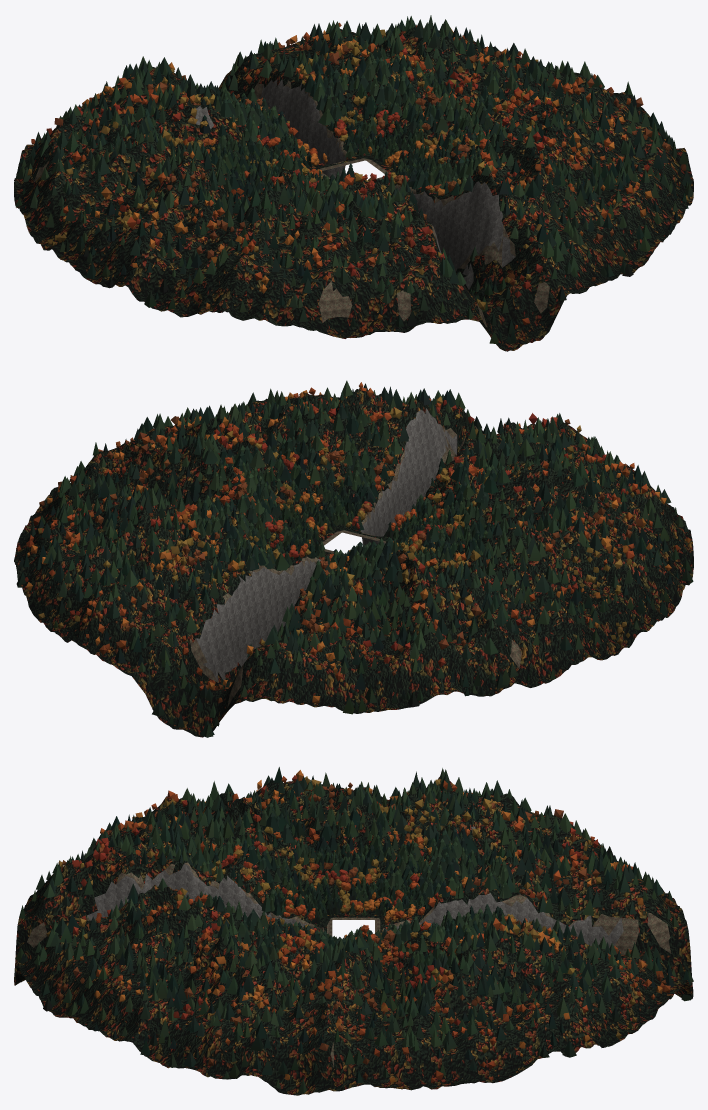
File: backdrop_near_rect_waste_autumn.glb
3 views of the same model, one above another, from view 1: azimuth 30°, elevation 25°; view 2: azimuth 150°, elevation 25°; view 3: azimuth 270°, elevation 25° (orthographic).
Parts seen in each view (by area): view 1: near_land_S, near_land_W, trees_land_W_0, trees_land_S_0, trees_land_E_0, trees_land_N_0, near_land_E, near_land_N; view 2: near_land_N, near_land_W, trees_land_N_0, trees_land_W_0, trees_land_E_0, trees_land_S_0, near_land_S, near_land_E; view 3: near_land_E, trees_land_E_0, near_land_S, trees_land_W_0, trees_land_N_0, near_land_N, trees_land_S_0, near_land_W.
Boxes of the visible parts, x1=… form: near_land_S: x1=265, y1=127, x2=682, y2=351; near_land_W: x1=14, y1=103, x2=318, y2=320; trees_land_W_0: x1=15, y1=95, x2=329, y2=314; trees_land_S_0: x1=278, y1=120, x2=678, y2=343; trees_land_E_0: x1=368, y1=19, x2=693, y2=211; trees_land_N_0: x1=31, y1=15, x2=433, y2=167; near_land_E: x1=363, y1=27, x2=693, y2=218; near_land_N: x1=25, y1=29, x2=432, y2=178; near_land_N: x1=26, y1=512, x2=442, y2=737; near_land_W: x1=393, y1=463, x2=693, y2=696; trees_land_N_0: x1=38, y1=502, x2=438, y2=737; trees_land_W_0: x1=382, y1=458, x2=693, y2=696; trees_land_E_0: x1=16, y1=388, x2=341, y2=590; trees_land_S_0: x1=274, y1=380, x2=671, y2=539; near_land_S: x1=275, y1=389, x2=677, y2=545; near_land_E: x1=14, y1=398, x2=346, y2=595; near_land_E: x1=114, y1=916, x2=594, y2=1095; trees_land_E_0: x1=121, y1=905, x2=590, y2=1093; near_land_S: x1=14, y1=817, x2=331, y2=1040; trees_land_W_0: x1=132, y1=767, x2=573, y2=916; trees_land_N_0: x1=384, y1=813, x2=693, y2=1039; near_land_N: x1=379, y1=819, x2=693, y2=1047; trees_land_S_0: x1=15, y1=806, x2=323, y2=1038; near_land_W: x1=138, y1=777, x2=561, y2=920.
Size of the model in its own units: 576 by 175 by 577.
Materials: 4 (3 with a texture image).
